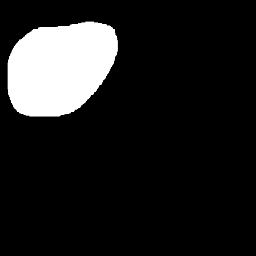mass: (18, 22, 113, 108)
